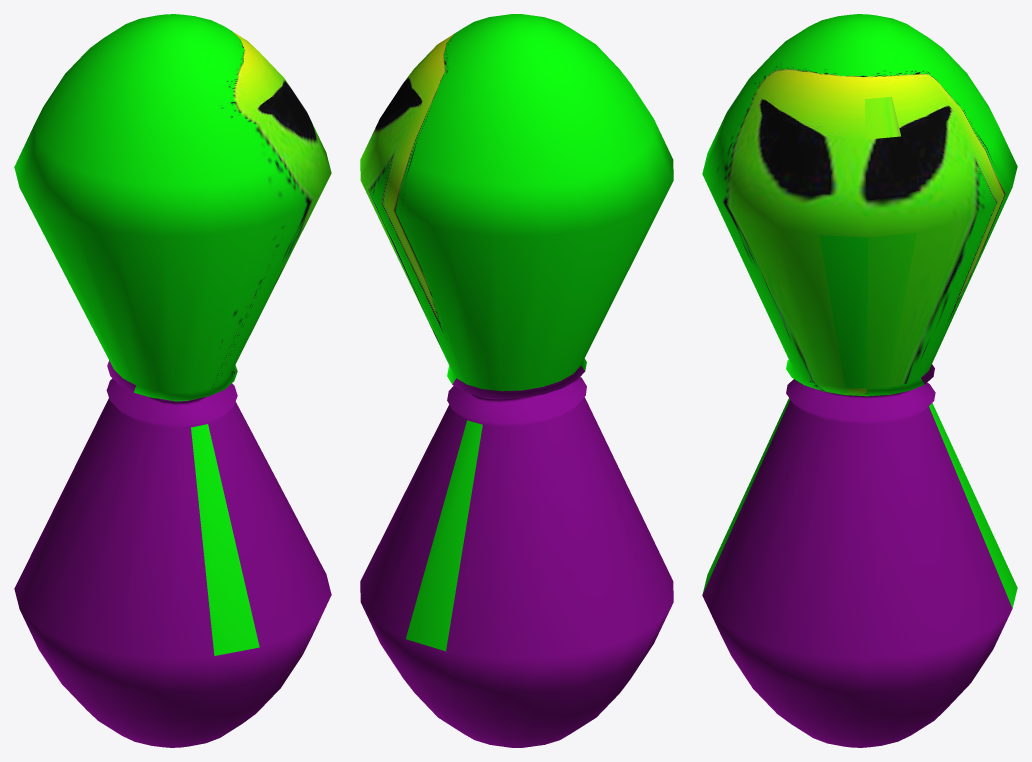
Rendered from bag.obj.
3 renders of one model, left to right at view 1: azimuth 30°, elevation 25°; view 2: azimuth 150°, elevation 25°; view 3: azimuth 270°, elevation 25°, orthographic.
Visible parts, largest first — view 1: bag:pasted__pSphere1group16; view 2: bag:pasted__pSphere1group16; view 3: bag:pasted__pSphere1group16.
Boxes of the visible parts, <box> form: bag:pasted__pSphere1group16: <box>14,14,331,747</box>; bag:pasted__pSphere1group16: <box>360,14,673,747</box>; bag:pasted__pSphere1group16: <box>702,14,1017,747</box>.
Size of the model in its own units: 0.6025 by 1.5 by 0.599.
Materials: 6 (6 with a texture image).
